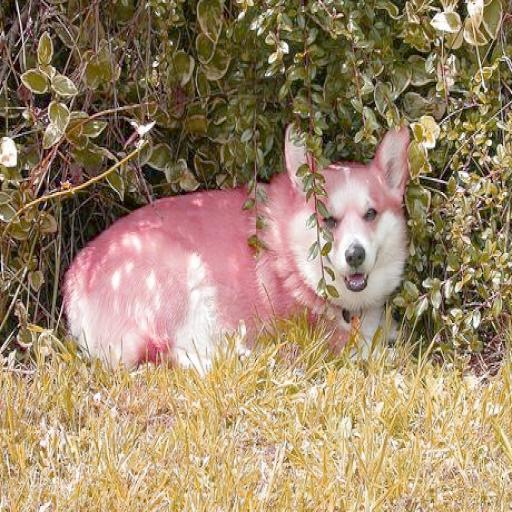dog_face: (284, 127, 413, 296)
